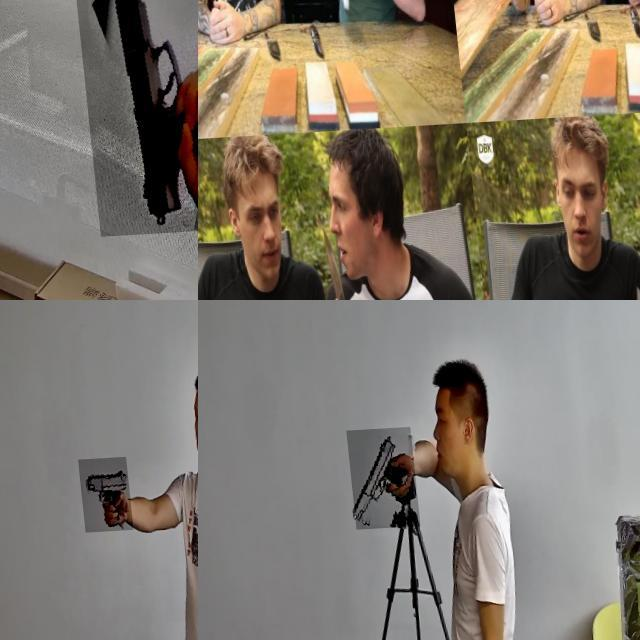-: (306, 218, 355, 300), (346, 0, 376, 36)
gun-knife-thesis - v11 Yolov5 augmented: (70, 0, 198, 238), (342, 431, 414, 533), (74, 460, 128, 535)
